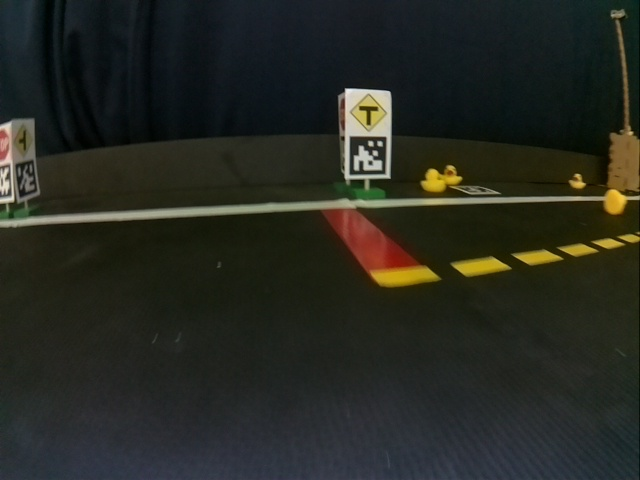Duckie: (420, 167, 445, 192), (603, 190, 627, 215), (443, 165, 462, 185), (570, 172, 585, 189)
Intersection sign: (348, 91, 388, 131), (15, 119, 34, 156)
QR code: (349, 135, 387, 175), (15, 161, 40, 200), (455, 185, 500, 195), (1, 164, 12, 203), (339, 136, 346, 171)
Stop sign: (1, 124, 11, 158), (337, 93, 345, 131)
